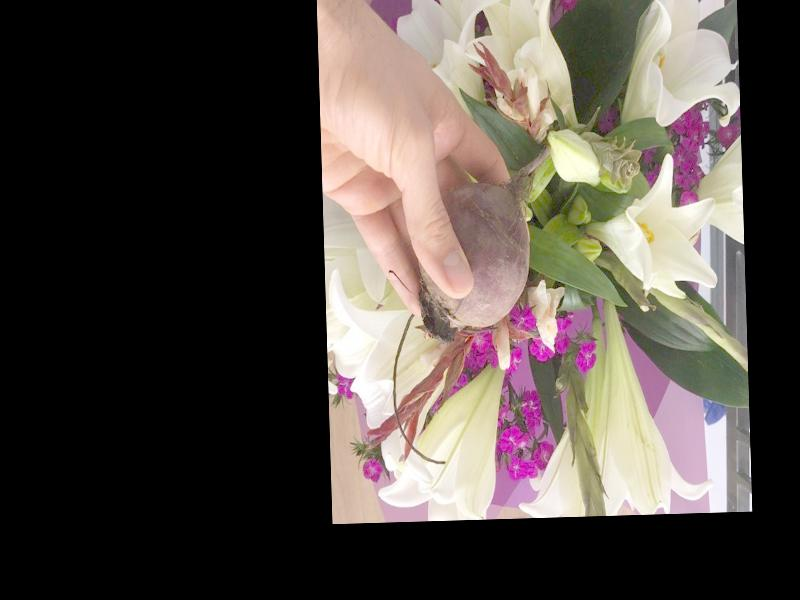Beet: (413, 140, 558, 343)
